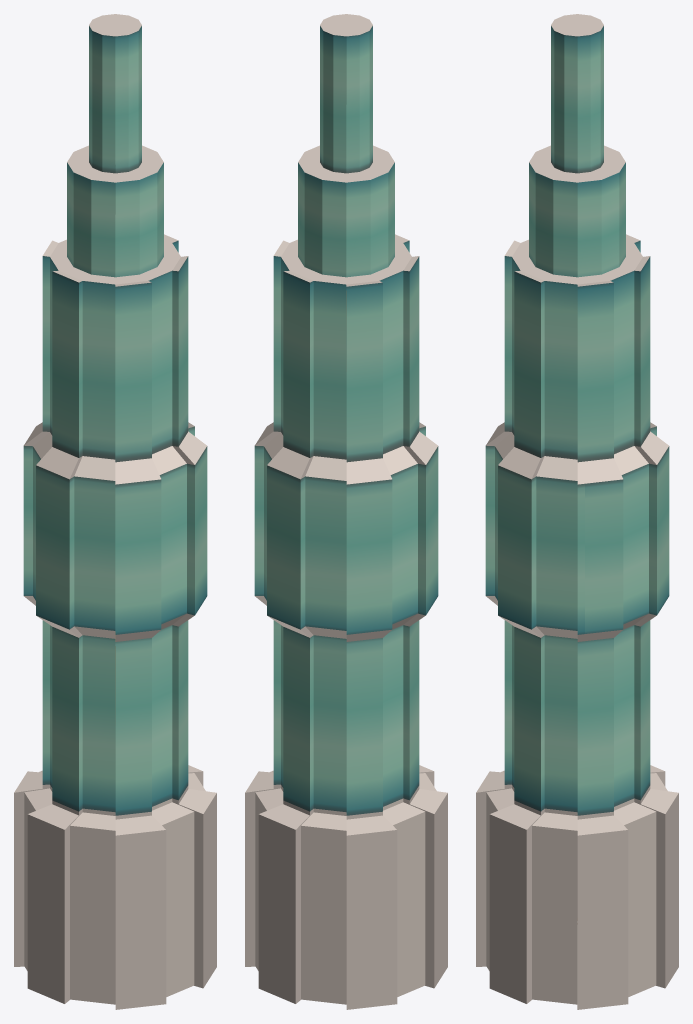
The model's file is Large_B_1.fbx.
3 renders of one model, left to right at view 1: azimuth 30°, elevation 25°; view 2: azimuth 150°, elevation 25°; view 3: azimuth 270°, elevation 25°, orthographic.
Visible parts, largest first — view 1: Large_B_1; view 2: Large_B_1; view 3: Large_B_1.
Boxes of the visible parts, x1,y1,x2,y2 form: Large_B_1: (14,14,216,1009); Large_B_1: (245,14,447,1009); Large_B_1: (476,14,678,1009).
Bounding box in the file's own units: 3506 × 17953 × 3506.
